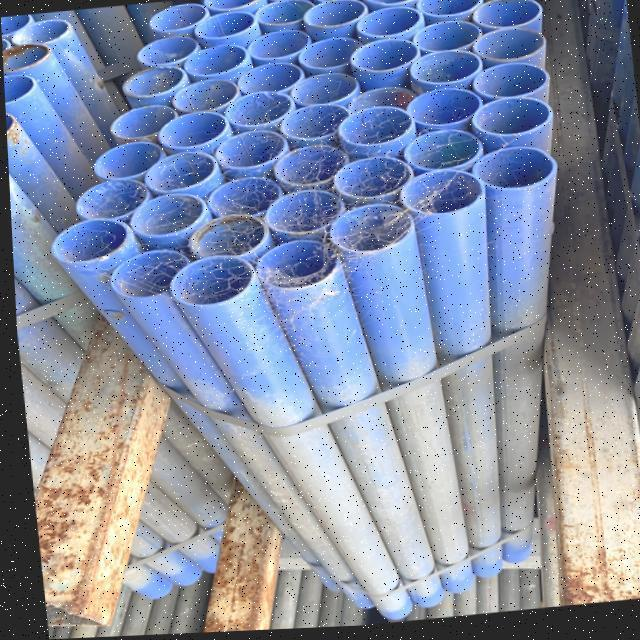pipe: (161, 251, 260, 313), (459, 142, 558, 203), (319, 202, 415, 262), (465, 3, 547, 69), (334, 93, 415, 156), (393, 168, 481, 224), (327, 151, 414, 207), (121, 189, 206, 246), (466, 94, 554, 146), (258, 187, 341, 242), (48, 214, 131, 269), (205, 124, 289, 177), (137, 147, 221, 199), (67, 173, 147, 225), (402, 85, 484, 135), (396, 128, 478, 178), (220, 82, 300, 133), (265, 146, 348, 194), (405, 46, 485, 95), (150, 107, 228, 156), (87, 139, 165, 188), (467, 63, 549, 109), (175, 37, 253, 83), (343, 37, 421, 82), (123, 32, 208, 73), (100, 102, 177, 147), (167, 74, 243, 119), (272, 103, 353, 144), (1, 18, 67, 68), (279, 69, 361, 108), (292, 33, 368, 74), (239, 29, 318, 68), (229, 61, 306, 100), (188, 7, 265, 46), (113, 64, 190, 103), (296, 0, 374, 38), (136, 0, 214, 37), (5, 17, 77, 49), (249, 0, 319, 30), (412, 0, 485, 28), (193, 0, 273, 19), (3, 69, 40, 108), (356, 0, 430, 15), (1, 13, 36, 38), (306, 0, 374, 9), (5, 108, 17, 144)
